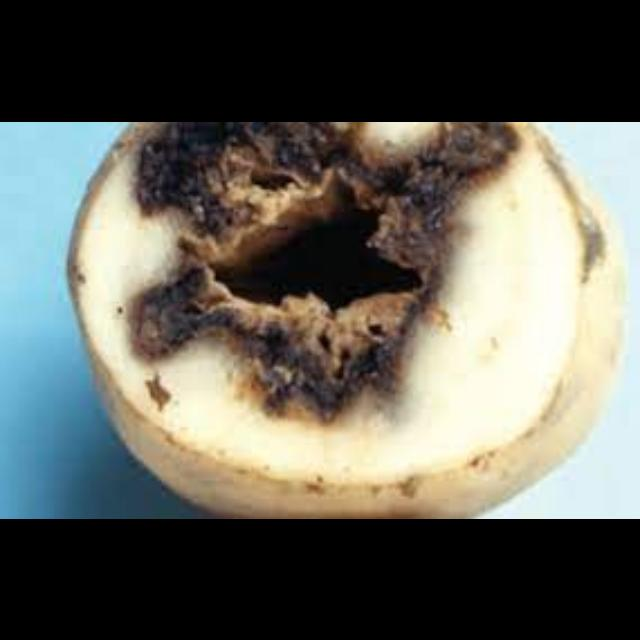Diseased-fungal potato: (59, 124, 605, 502)
